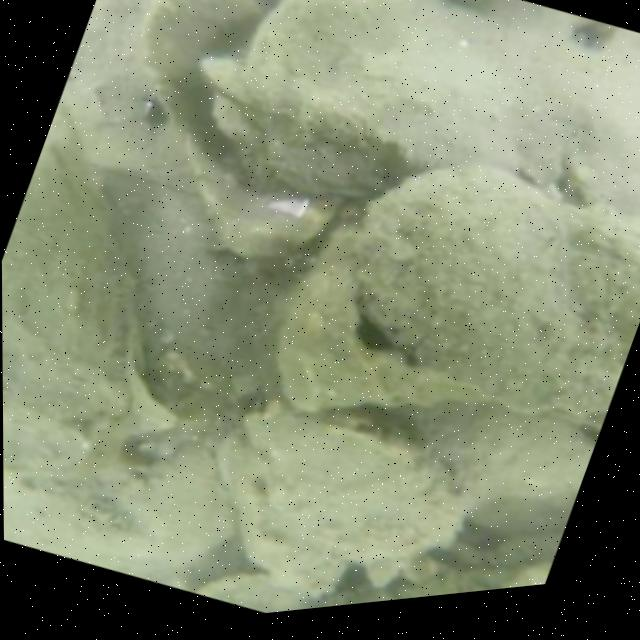Oyster-Indeterminate: (357, 164, 621, 414), (216, 0, 530, 197), (134, 0, 349, 259), (2, 118, 136, 477), (220, 414, 479, 590), (4, 448, 230, 572)
